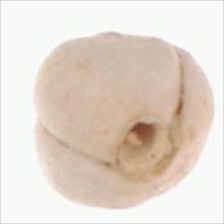L3: (111, 112, 180, 181)
L4: (35, 32, 215, 209)
